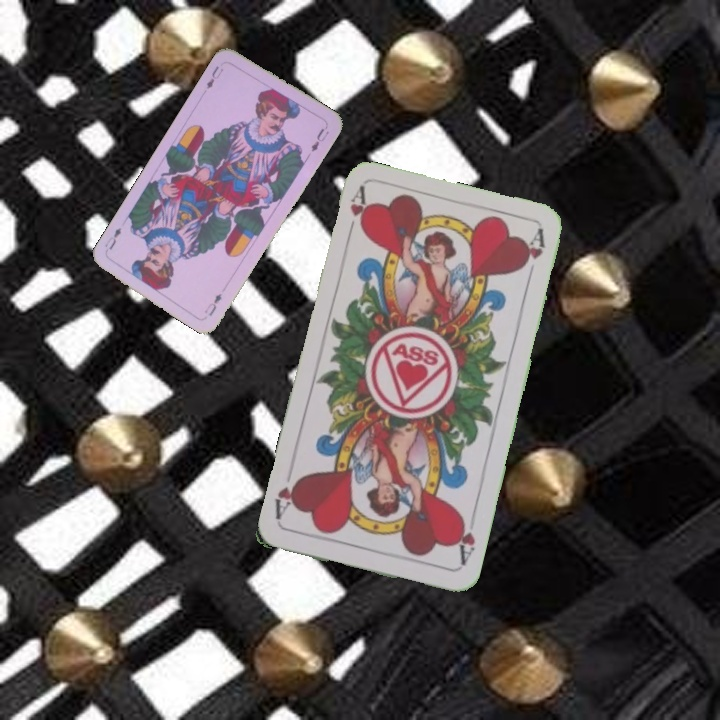EU: (202, 62, 226, 92), (201, 289, 225, 318)
HA: (342, 184, 370, 242), (451, 512, 478, 569)
